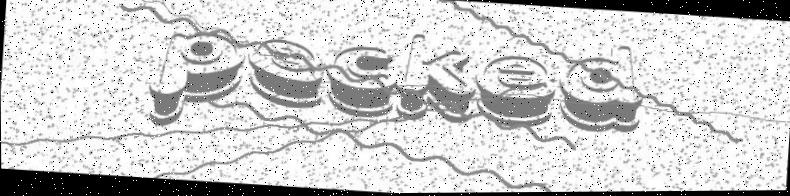c: (322, 40, 400, 121)
d: (556, 41, 651, 139)
e: (472, 51, 561, 134), (240, 34, 327, 108)
k: (397, 31, 481, 126)
p: (142, 24, 248, 130)
